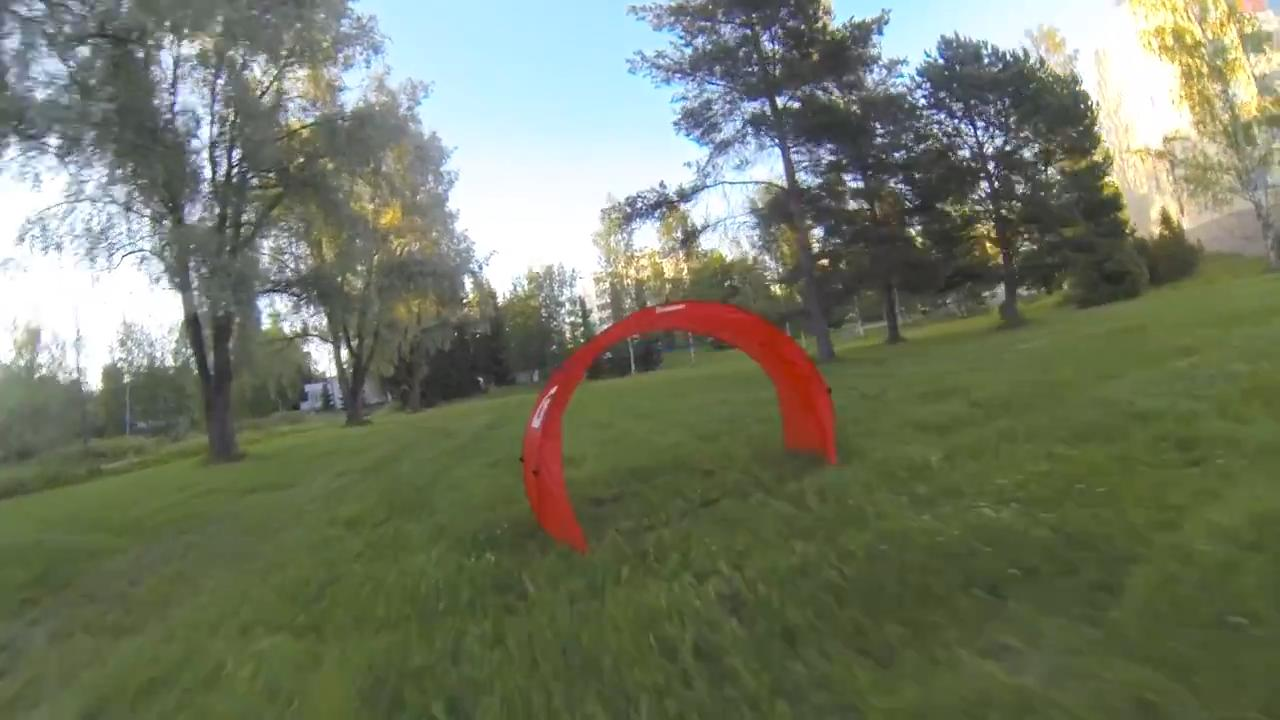gate: (514, 298, 851, 552)
